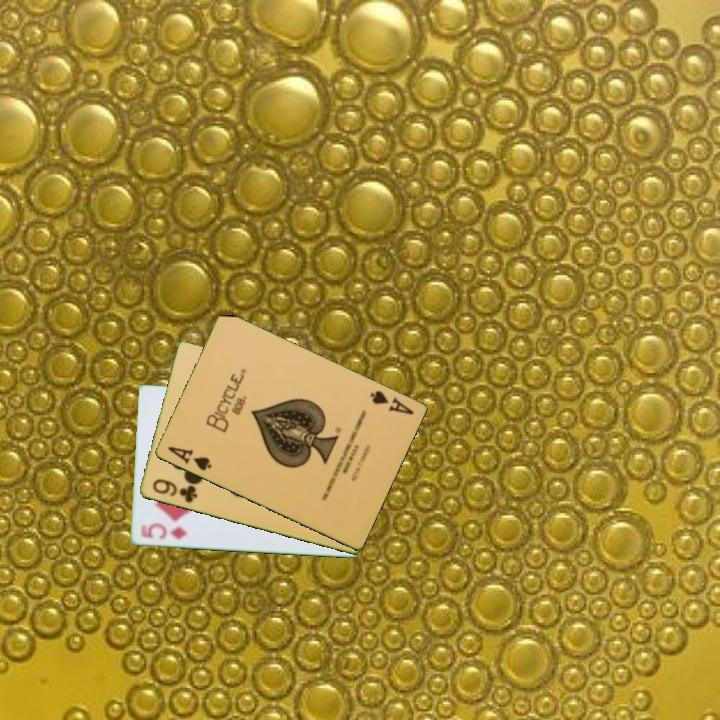5d: (136, 520, 190, 543)
9c: (148, 476, 200, 506)
As: (164, 443, 214, 474), (366, 387, 416, 418)
